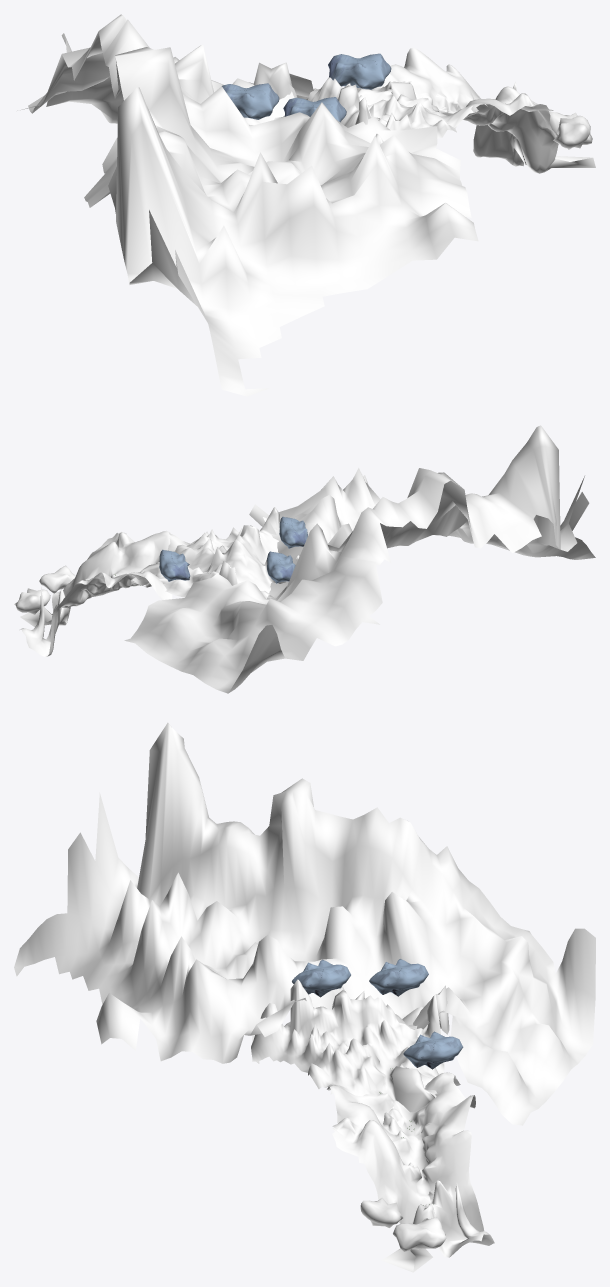
File: wingsuit_map.glb
The picture shows the model from 3 angles, top to bottom: view 1: azimuth 30°, elevation 25°; view 2: azimuth 150°, elevation 25°; view 3: azimuth 270°, elevation 25°; orthographic projection. The views are drawn at different scales.
Parts seen in each view (by area): view 1: WING_MONTAGNE_1, WING_MONTAGNE_3, WING_MONTAGNE_2, Nuage_2, Nuage_3, Nuage_4, Nuage_5; view 2: WING_MONTAGNE_1, WING_MONTAGNE_3, WING_MONTAGNE_2, Nuage_2, Nuage_5, Nuage_3, NUAGE_1, Nuage_4; view 3: WING_MONTAGNE_1, WING_MONTAGNE_3, WING_MONTAGNE_2, Nuage_2, Nuage_3, Nuage_5, NUAGE_1, Nuage_4.
Boxes of the visible parts, bbox=[...] form: WING_MONTAGNE_1: bbox=[17, 14, 478, 396]; WING_MONTAGNE_3: bbox=[356, 47, 595, 173]; WING_MONTAGNE_2: bbox=[244, 62, 476, 144]; Nuage_2: bbox=[328, 53, 391, 89]; Nuage_3: bbox=[222, 83, 279, 119]; Nuage_4: bbox=[553, 115, 590, 148]; Nuage_5: bbox=[283, 97, 346, 122]; WING_MONTAGNE_1: bbox=[124, 425, 595, 693]; WING_MONTAGNE_3: bbox=[20, 530, 172, 656]; WING_MONTAGNE_2: bbox=[128, 507, 299, 598]; Nuage_2: bbox=[159, 549, 190, 581]; Nuage_5: bbox=[279, 516, 307, 548]; Nuage_3: bbox=[267, 551, 295, 583]; NUAGE_1: bbox=[14, 588, 50, 614]; Nuage_4: bbox=[39, 565, 75, 593]; WING_MONTAGNE_1: bbox=[14, 722, 595, 1125]; WING_MONTAGNE_3: bbox=[327, 1072, 494, 1272]; WING_MONTAGNE_2: bbox=[251, 979, 449, 1112]; Nuage_2: bbox=[403, 1031, 463, 1069]; Nuage_3: bbox=[369, 959, 428, 996]; Nuage_5: bbox=[292, 959, 350, 997]; NUAGE_1: bbox=[393, 1217, 446, 1251]; Nuage_4: bbox=[360, 1197, 402, 1227].
Size of the model in its own units: 41.03 by 20.37 by 36.44.
Materials: 31 (1 with a texture image).
